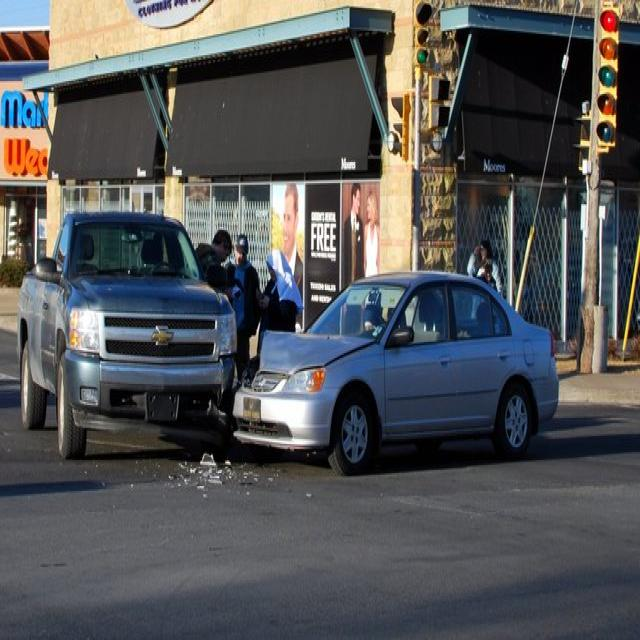crush: (243, 330, 376, 395), (203, 357, 236, 439)
